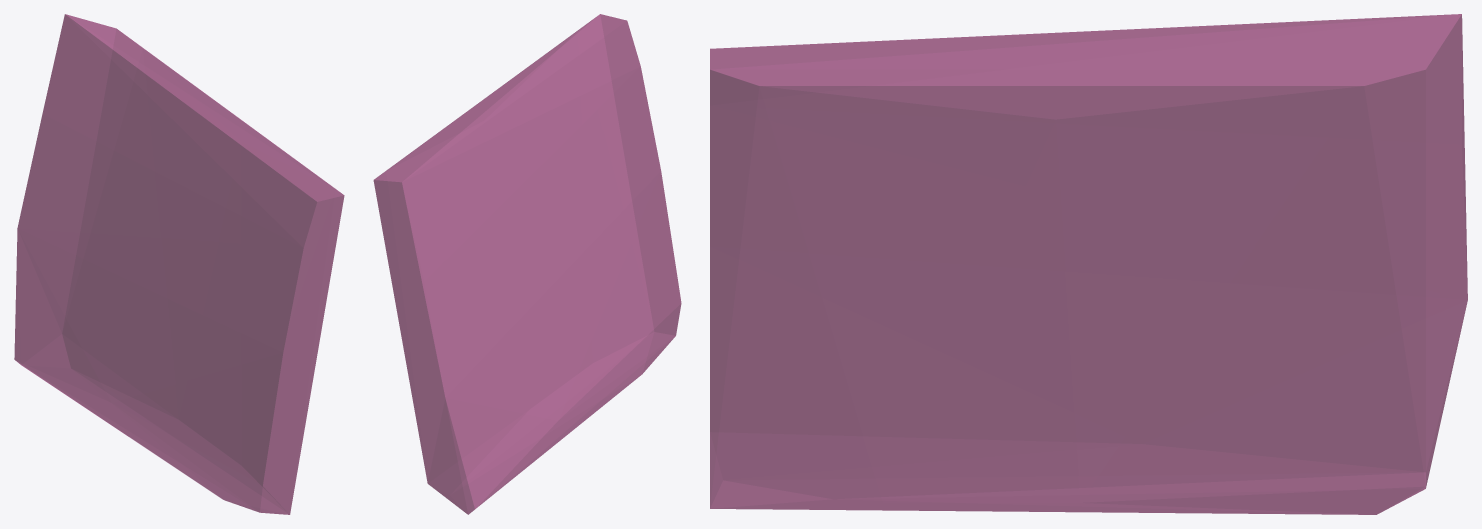
3 renders of one model, left to right at view 1: azimuth 30°, elevation 25°; view 2: azimuth 150°, elevation 25°; view 3: azimuth 270°, elevation 25°, orthographic. The views are drawn at different scales.
Parts seen in each view (by area): view 1: Shape_IndexedFaceSet.007_Shape_IndexedFaceSet.8979; view 2: Shape_IndexedFaceSet.007_Shape_IndexedFaceSet.8979; view 3: Shape_IndexedFaceSet.007_Shape_IndexedFaceSet.8979.
Part boxes in pixels (box(x1,y1,x2,y2)): Shape_IndexedFaceSet.007_Shape_IndexedFaceSet.8979: box(14, 14, 344, 514); Shape_IndexedFaceSet.007_Shape_IndexedFaceSet.8979: box(373, 14, 681, 514); Shape_IndexedFaceSet.007_Shape_IndexedFaceSet.8979: box(710, 14, 1467, 514).
Bounding box in the file's own units: 0.0996 × 0.2877 × 0.3821.
